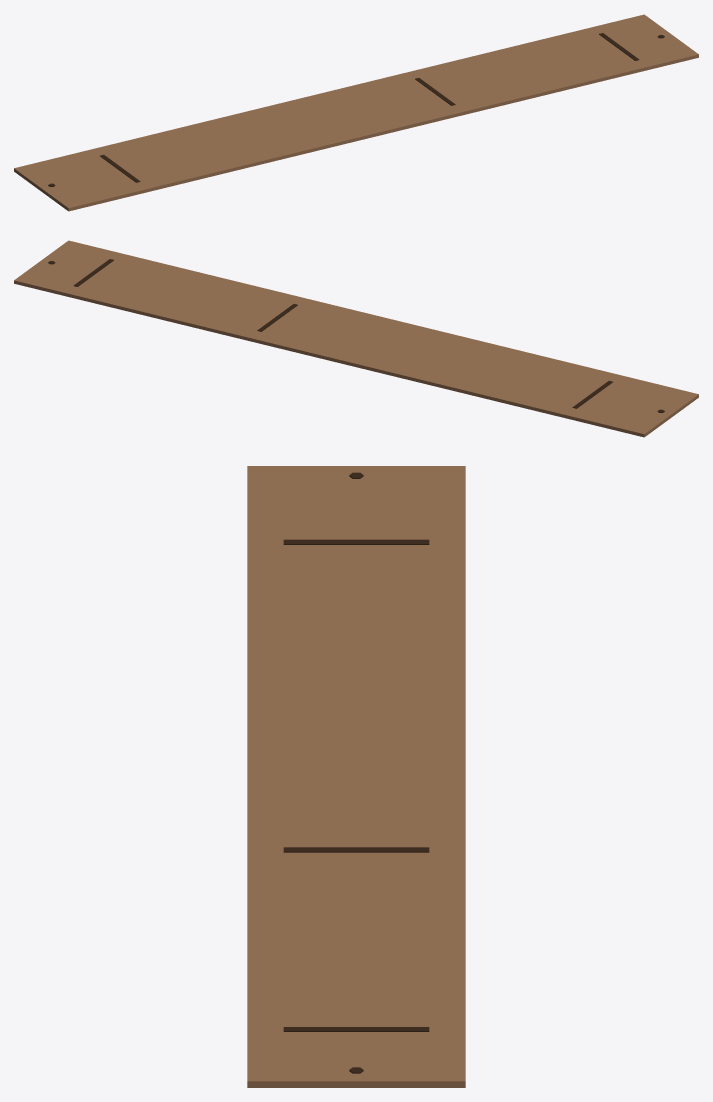
File: floorboard_worn.glb
3 views of the same model, one above another, from view 1: azimuth 30°, elevation 25°; view 2: azimuth 150°, elevation 25°; view 3: azimuth 270°, elevation 25° (orthographic). The views are drawn at different scales.
Parts seen in each view (by area): view 1: floorboard_worn; view 2: floorboard_worn; view 3: floorboard_worn.
Boxes of the visible parts, x1=… form: floorboard_worn: x1=14, y1=14, x2=698, y2=211; floorboard_worn: x1=14, y1=240, x2=698, y2=437; floorboard_worn: x1=247, y1=466, x2=465, y2=1087.
Bounding box in the file's own units: 1.2 × 0.007 × 0.18.
